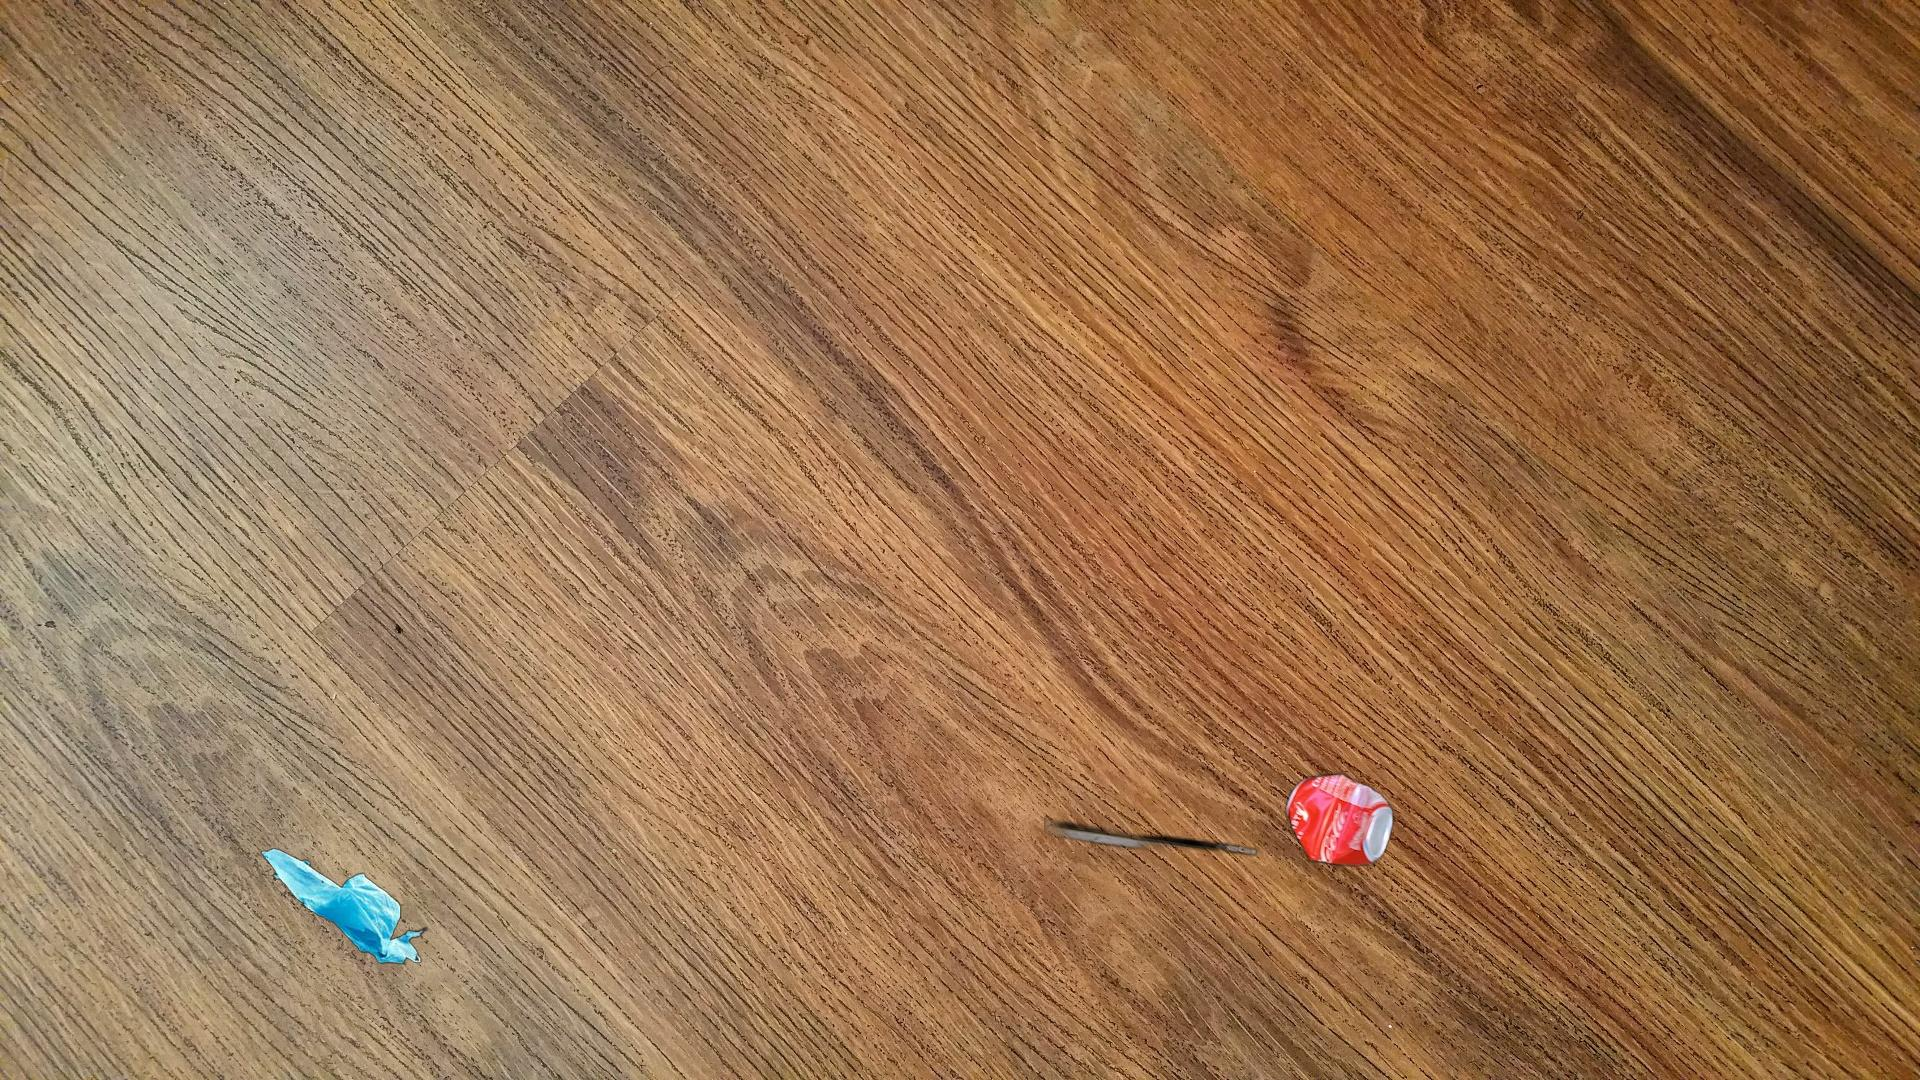metal-cans: (1044, 691, 1556, 943)
plastic-bag: (258, 847, 430, 969)
